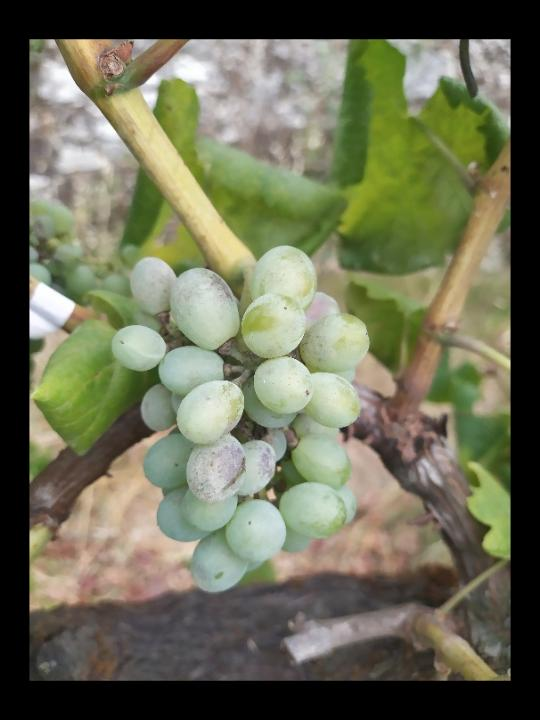grape: (109, 241, 374, 597)
